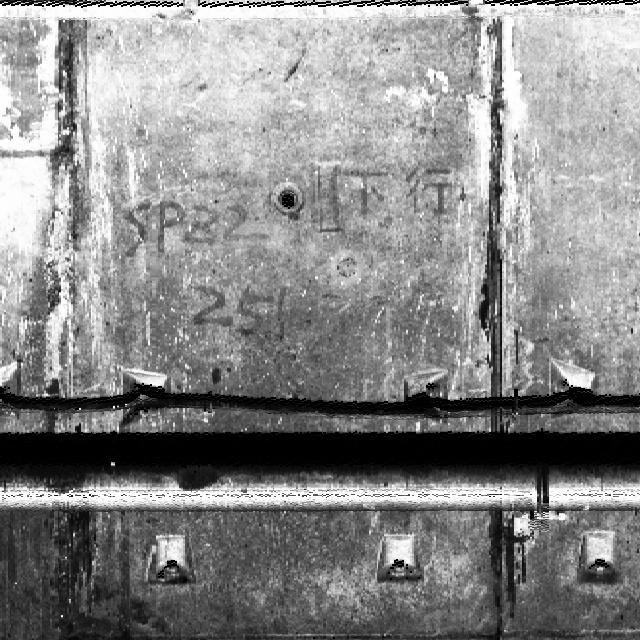leakage: (6, 14, 169, 639), (443, 9, 543, 435), (477, 502, 538, 639)
